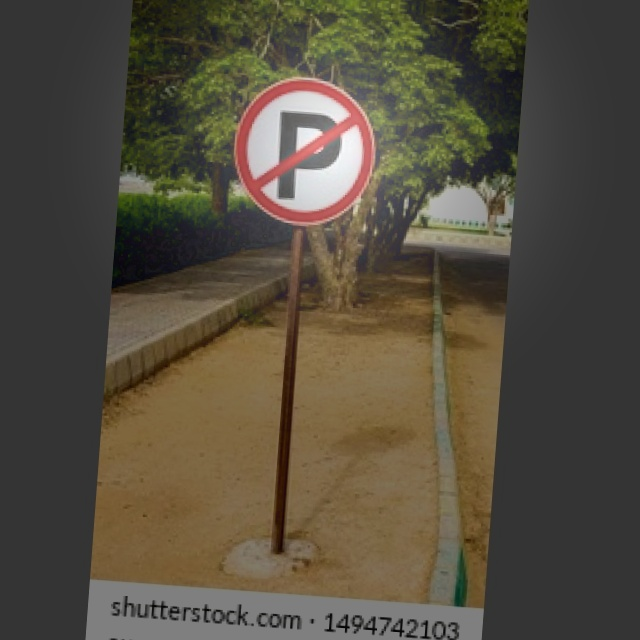No_Parking: (229, 75, 380, 232)
